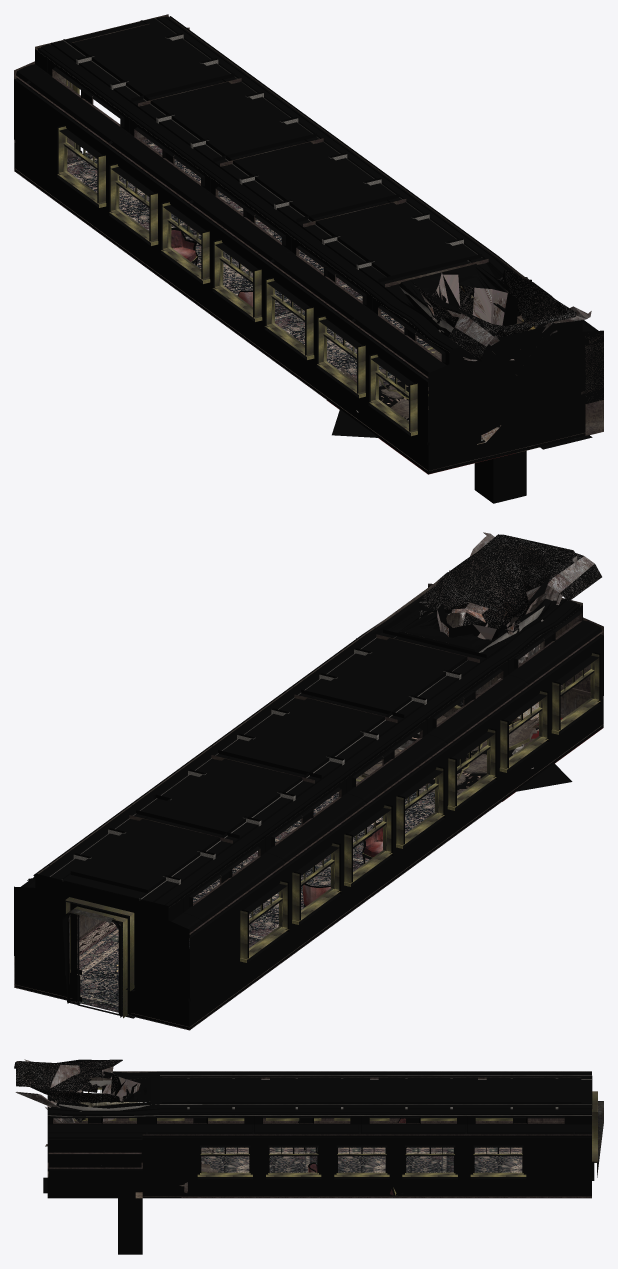
Rendered from Train_Carriage_New_01.glb.
3 renders of one model, top to bottom at view 1: azimuth 30°, elevation 25°; view 2: azimuth 150°, elevation 25°; view 3: azimuth 270°, elevation 25°, orthographic. The views are drawn at different scales.
Visible parts, largest first — view 1: Train_Carriage_New_01; view 2: Train_Carriage_New_01; view 3: Train_Carriage_New_01.
Part boxes in pixels (box(x1,y1,x2,y2)): Train_Carriage_New_01: box(14, 14, 603, 503); Train_Carriage_New_01: box(14, 532, 603, 1030); Train_Carriage_New_01: box(14, 1059, 603, 1254).
Bounding box in the file's own units: 47.15 × 51.27 × 169.
23 materials, 22 textured.
